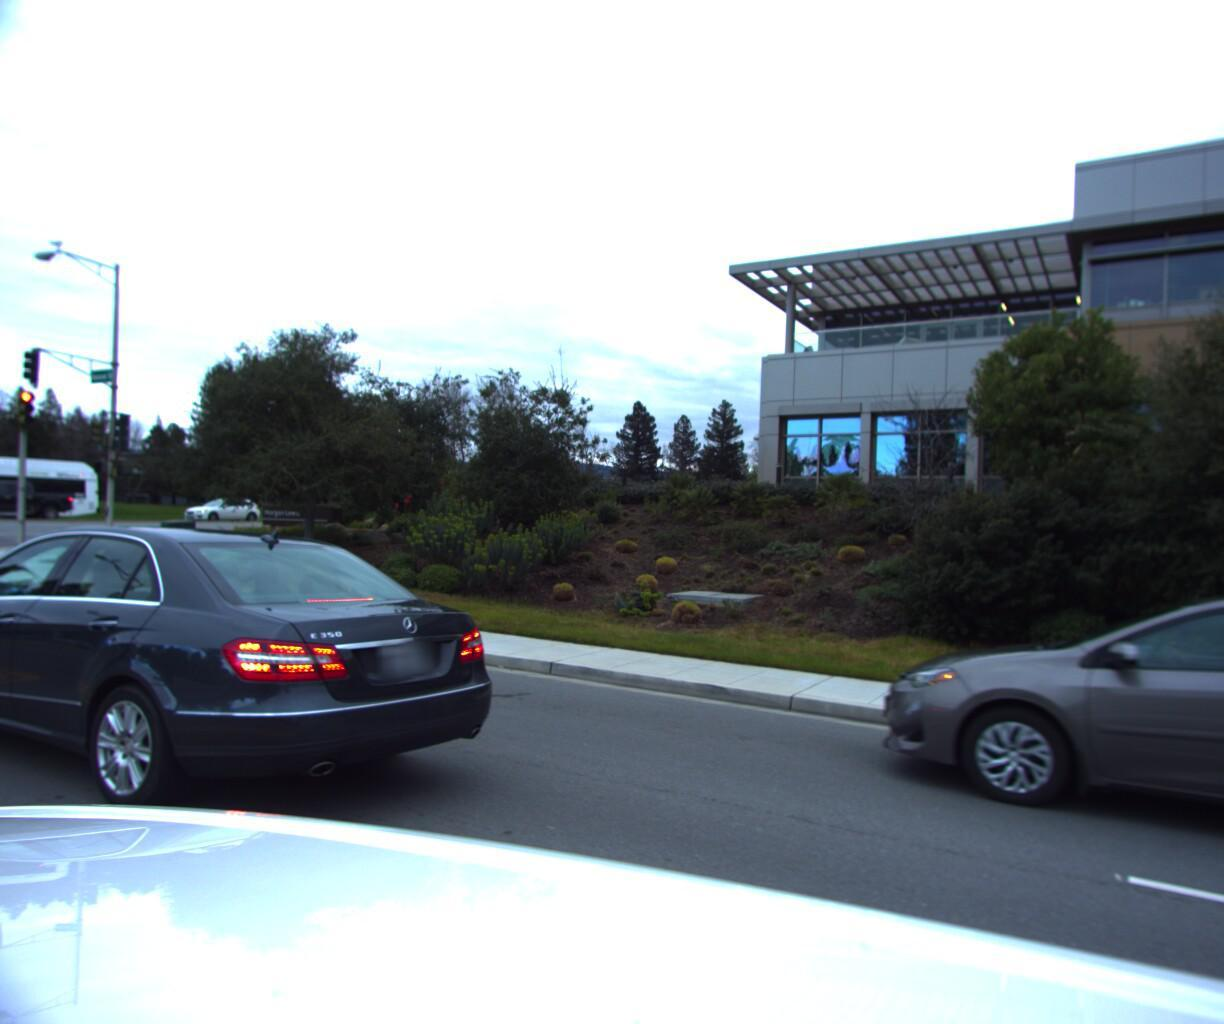bus: (0, 445, 103, 526)
car: (0, 519, 533, 867), (908, 569, 1224, 991), (0, 482, 79, 525), (181, 500, 268, 530)
